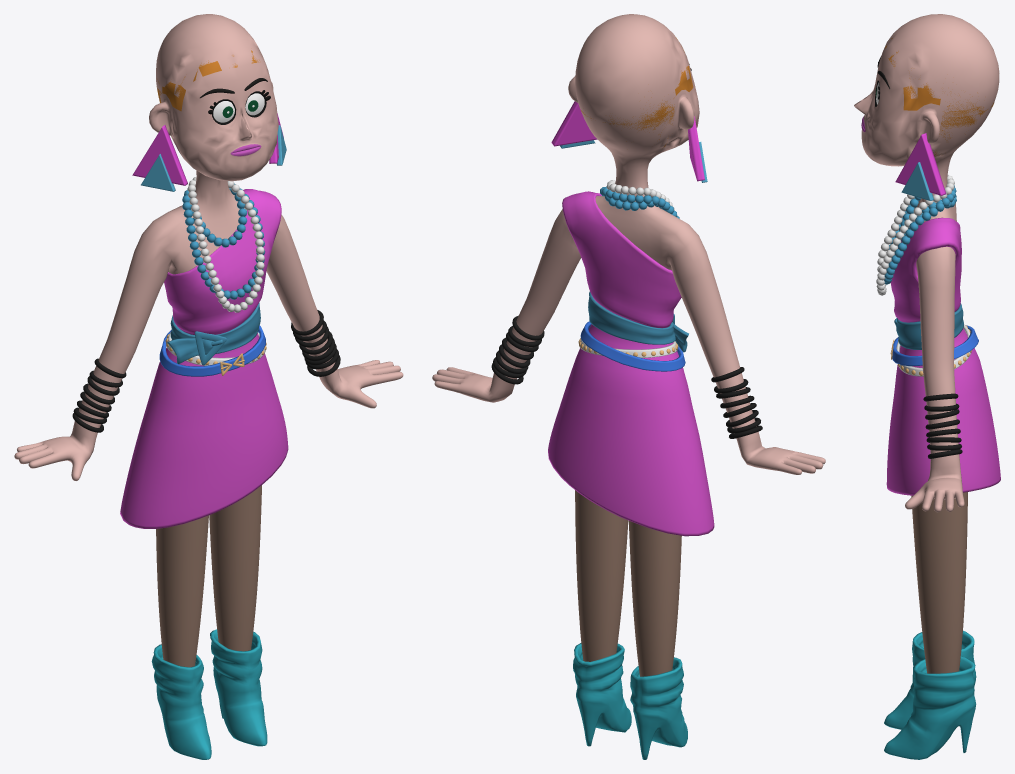
The model's file is G04-ClubDirector-Victoria-R85-Acting.glb.
The picture shows the model from 3 angles, left to right: view 1: azimuth 30°, elevation 25°; view 2: azimuth 150°, elevation 25°; view 3: azimuth 270°, elevation 25°; orthographic projection.
Visible parts, largest first — view 1: R85_SKINNED_SOURCE_MORPH_GEO-victoria_body_upper, R85_SKINNED_SOURCE_MORPH_GEO-victoria_dress, R85_SKINNED_SOURCE_MORPH_GEO-victoria_body_legs, R85_SKINNED_SOURCE_MORPH_GEO-victoria_boots, R85_SKINNED_SOURCE_MORPH_GEO-victoria_necklaces, R85_SKINNED_SOURCE_MORPH_GEO-victoria_bracelets, R85_SKINNED_SOURCE_MORPH_GEO-victoria_earrings, R85_SKINNED_SOURCE_MORPH_GEO-victoria_belt_main, R85_SKINNED_SOURCE_MORPH_GEO-victoria_belt_blue, R85_SKINNED_SOURCE_MORPH_GEO-victoria_hair.scalp; view 2: R85_SKINNED_SOURCE_MORPH_GEO-victoria_body_upper, R85_SKINNED_SOURCE_MORPH_GEO-victoria_dress, R85_SKINNED_SOURCE_MORPH_GEO-victoria_body_legs, R85_SKINNED_SOURCE_MORPH_GEO-victoria_boots, R85_SKINNED_SOURCE_MORPH_GEO-victoria_bracelets, R85_SKINNED_SOURCE_MORPH_GEO-victoria_belt_main, R85_SKINNED_SOURCE_MORPH_GEO-victoria_earrings, R85_SKINNED_SOURCE_MORPH_GEO-victoria_necklaces, R85_SKINNED_SOURCE_MORPH_GEO-victoria_belt_blue, R85_SKINNED_SOURCE_MORPH_GEO-victoria_hair.scalp; view 3: R85_SKINNED_SOURCE_MORPH_GEO-victoria_body_upper, R85_SKINNED_SOURCE_MORPH_GEO-victoria_dress, R85_SKINNED_SOURCE_MORPH_GEO-victoria_body_legs, R85_SKINNED_SOURCE_MORPH_GEO-victoria_boots, R85_SKINNED_SOURCE_MORPH_GEO-victoria_necklaces, R85_SKINNED_SOURCE_MORPH_GEO-victoria_earrings, R85_SKINNED_SOURCE_MORPH_GEO-victoria_bracelets, R85_SKINNED_SOURCE_MORPH_GEO-victoria_hair.scalp, R85_SKINNED_SOURCE_MORPH_GEO-victoria_belt_main, R85_SKINNED_SOURCE_MORPH_GEO-victoria_belt_blue, R85_SKINNED_SOURCE_MORPH_GEO-victoria_belt_white.
Boxes of the visible parts, bbox=[...] form: R85_SKINNED_SOURCE_MORPH_GEO-victoria_body_upper: bbox=[14, 14, 403, 480]; R85_SKINNED_SOURCE_MORPH_GEO-victoria_dress: bbox=[120, 189, 288, 528]; R85_SKINNED_SOURCE_MORPH_GEO-victoria_body_legs: bbox=[156, 485, 261, 667]; R85_SKINNED_SOURCE_MORPH_GEO-victoria_boots: bbox=[151, 629, 267, 759]; R85_SKINNED_SOURCE_MORPH_GEO-victoria_necklaces: bbox=[182, 177, 265, 312]; R85_SKINNED_SOURCE_MORPH_GEO-victoria_bracelets: bbox=[72, 310, 340, 432]; R85_SKINNED_SOURCE_MORPH_GEO-victoria_earrings: bbox=[132, 113, 286, 191]; R85_SKINNED_SOURCE_MORPH_GEO-victoria_belt_main: bbox=[167, 302, 260, 364]; R85_SKINNED_SOURCE_MORPH_GEO-victoria_belt_blue: bbox=[159, 325, 265, 376]; R85_SKINNED_SOURCE_MORPH_GEO-victoria_hair.scalp: bbox=[156, 50, 259, 111]; R85_SKINNED_SOURCE_MORPH_GEO-victoria_body_upper: bbox=[432, 14, 825, 474]; R85_SKINNED_SOURCE_MORPH_GEO-victoria_dress: bbox=[548, 191, 714, 536]; R85_SKINNED_SOURCE_MORPH_GEO-victoria_body_legs: bbox=[575, 490, 681, 676]; R85_SKINNED_SOURCE_MORPH_GEO-victoria_boots: bbox=[573, 643, 687, 759]; R85_SKINNED_SOURCE_MORPH_GEO-victoria_bracelets: bbox=[491, 315, 762, 438]; R85_SKINNED_SOURCE_MORPH_GEO-victoria_belt_main: bbox=[588, 291, 688, 352]; R85_SKINNED_SOURCE_MORPH_GEO-victoria_earrings: bbox=[551, 101, 707, 182]; R85_SKINNED_SOURCE_MORPH_GEO-victoria_necklaces: bbox=[600, 180, 679, 218]; R85_SKINNED_SOURCE_MORPH_GEO-victoria_belt_blue: bbox=[580, 321, 685, 371]; R85_SKINNED_SOURCE_MORPH_GEO-victoria_hair.scalp: bbox=[581, 37, 693, 148]; R85_SKINNED_SOURCE_MORPH_GEO-victoria_body_upper: bbox=[854, 14, 999, 512]; R85_SKINNED_SOURCE_MORPH_GEO-victoria_dress: bbox=[886, 217, 1000, 495]; R85_SKINNED_SOURCE_MORPH_GEO-victoria_body_legs: bbox=[911, 492, 967, 673]; R85_SKINNED_SOURCE_MORPH_GEO-victoria_boots: bbox=[884, 630, 976, 759]; R85_SKINNED_SOURCE_MORPH_GEO-victoria_necklaces: bbox=[876, 174, 956, 295]; R85_SKINNED_SOURCE_MORPH_GEO-victoria_earrings: bbox=[895, 133, 946, 200]; R85_SKINNED_SOURCE_MORPH_GEO-victoria_bracelets: bbox=[923, 393, 962, 458]; R85_SKINNED_SOURCE_MORPH_GEO-victoria_hair.scalp: bbox=[885, 38, 993, 156]; R85_SKINNED_SOURCE_MORPH_GEO-victoria_belt_main: bbox=[896, 303, 963, 349]; R85_SKINNED_SOURCE_MORPH_GEO-victoria_belt_blue: bbox=[890, 325, 978, 366]; R85_SKINNED_SOURCE_MORPH_GEO-victoria_belt_white: bbox=[896, 324, 971, 376].
Size of the model in its own units: 0.7938 by 1.42 by 0.2631.
